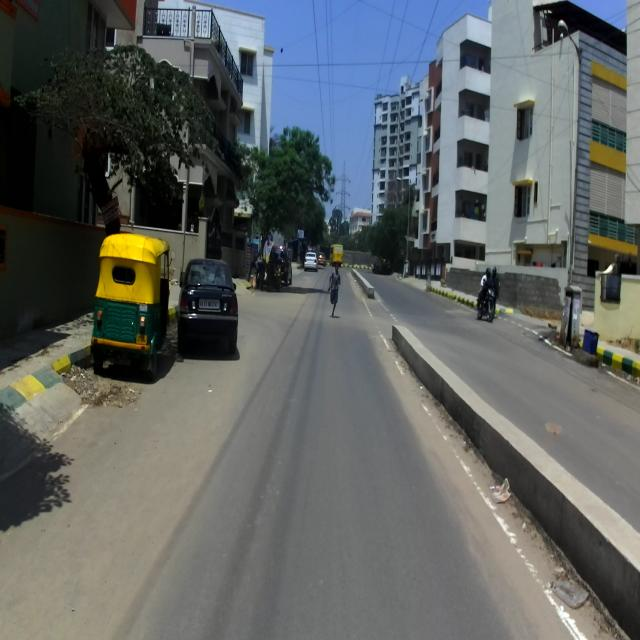auto ahead at: (94, 234, 173, 369)
car ahead at: (176, 248, 239, 357)
